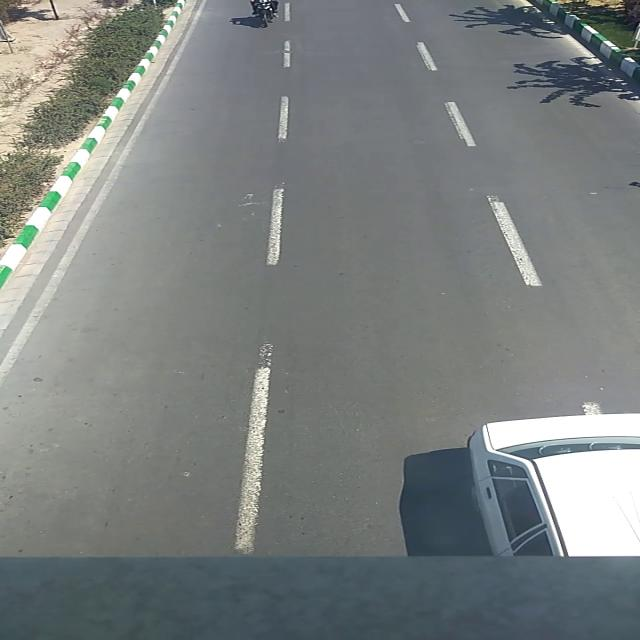car: (466, 412, 640, 555)
